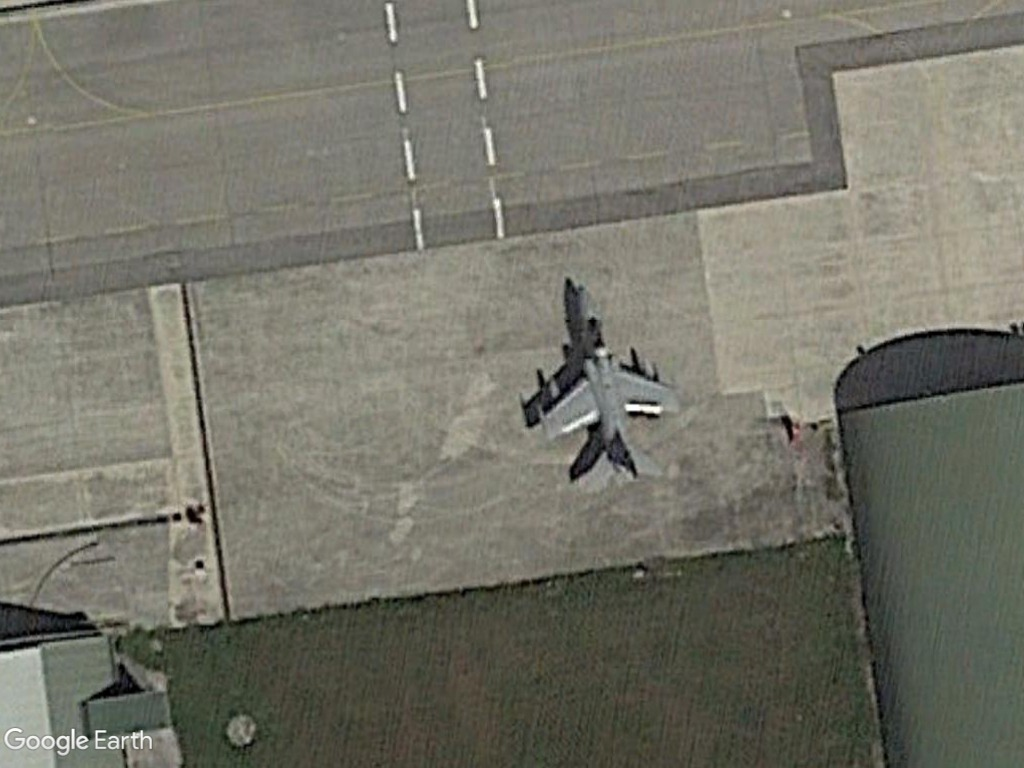fighter: (521, 277, 690, 492)
